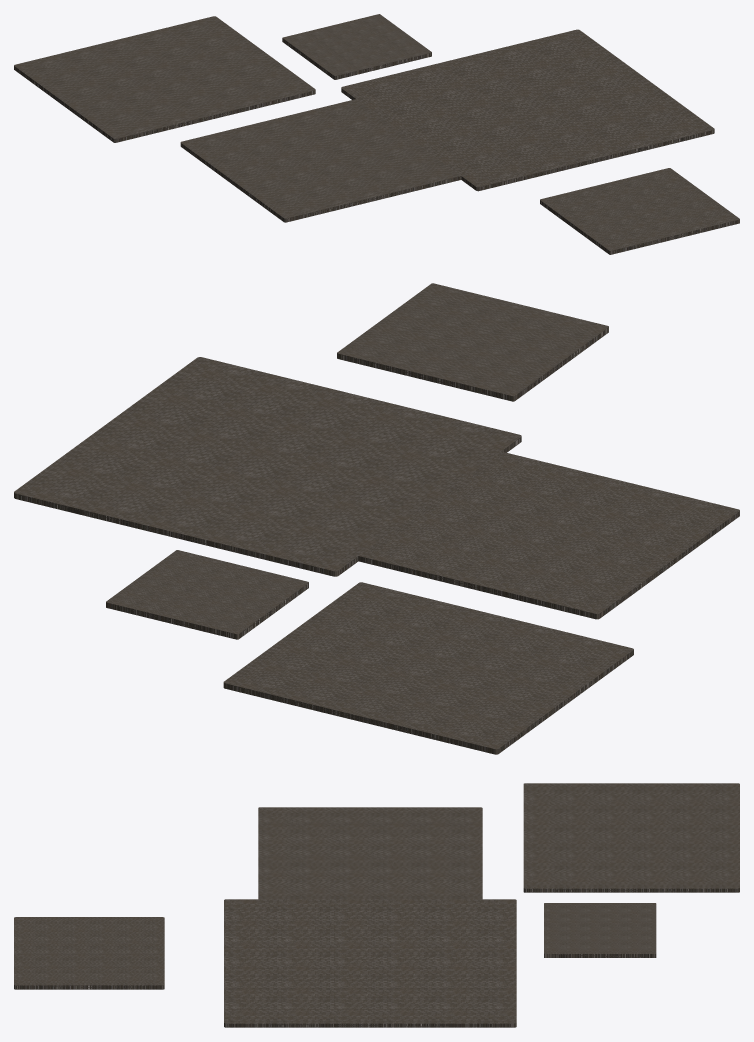
3 views of the same model, one above another, from view 1: azimuth 30°, elevation 25°; view 2: azimuth 150°, elevation 25°; view 3: azimuth 270°, elevation 25° (orthographic). The views are drawn at different scales.
Parts seen in each view (by area): view 1: Plane.004, Plane.006, Plane.008, Plane.007; view 2: Plane.004, Plane.006, Plane.008, Plane.007; view 3: Plane.004, Plane.006, Plane.008, Plane.007.
Part boxes in pixels (x1,y1,x2,y2): Plane.004: [180, 29, 714, 222]; Plane.006: [14, 16, 315, 142]; Plane.008: [540, 168, 739, 254]; Plane.007: [282, 14, 431, 79]; Plane.004: [14, 357, 739, 619]; Plane.006: [223, 582, 633, 754]; Plane.008: [337, 283, 608, 401]; Plane.007: [106, 550, 308, 639]; Plane.004: [224, 807, 516, 1027]; Plane.006: [523, 783, 739, 892]; Plane.008: [14, 917, 164, 989]; Plane.007: [544, 903, 656, 957].
Size of the model in its own units: 48.1 by 0.4 by 61.42.
5 materials, 5 textured.
